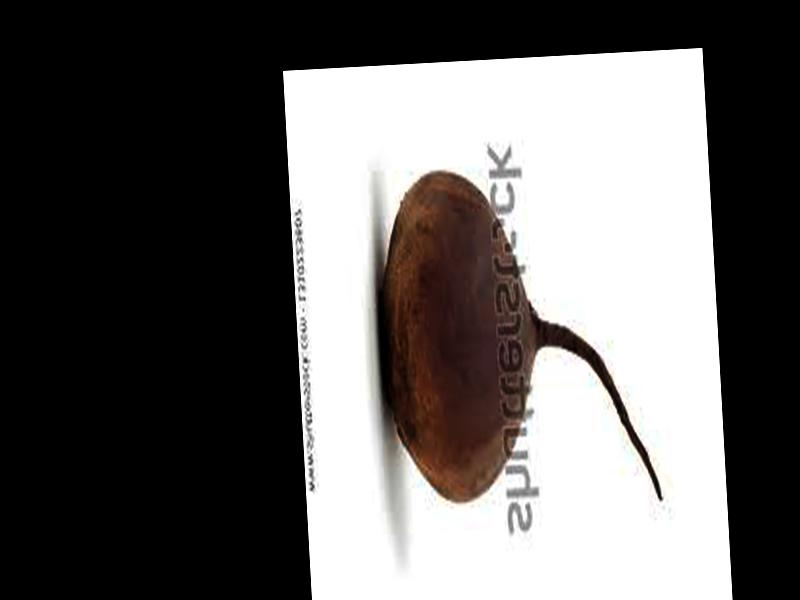Beet: (370, 156, 662, 514)
